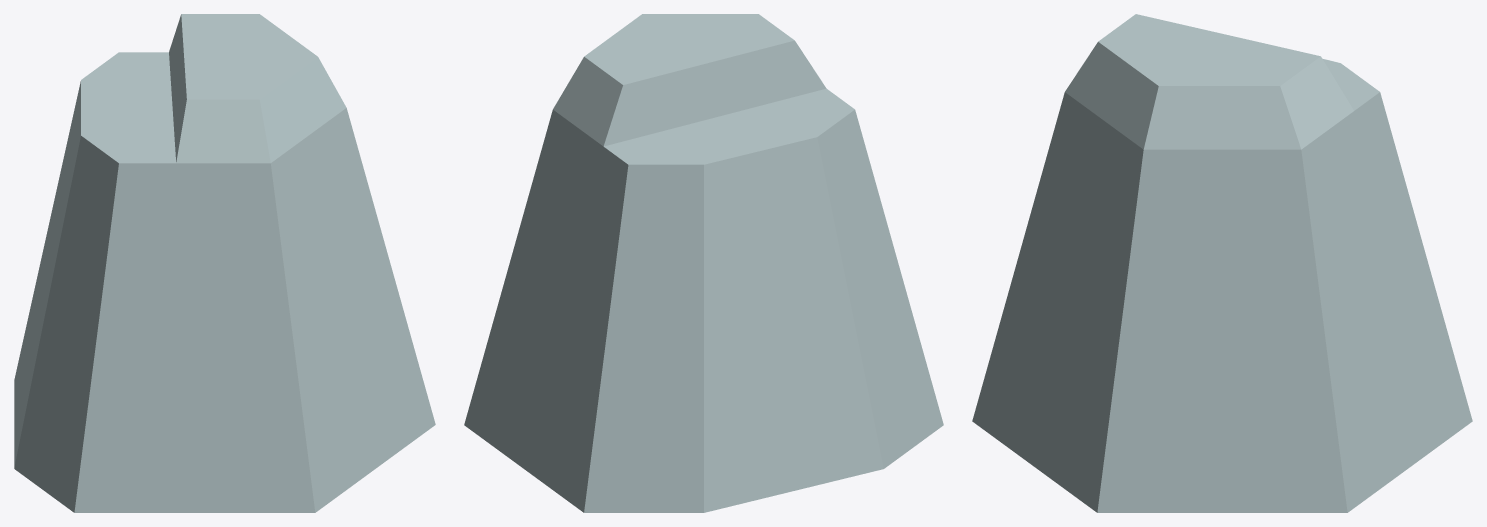
The model's file is stone_tallE.glb.
The picture shows the model from 3 angles, left to right: view 1: azimuth 30°, elevation 25°; view 2: azimuth 150°, elevation 25°; view 3: azimuth 270°, elevation 25°; orthographic projection. The views are drawn at different scales.
Parts seen in each view (by area): view 1: stone_tallE; view 2: stone_tallE; view 3: stone_tallE.
Part boxes in pixels (x1,y1,x2,y2): stone_tallE: (14,14,435,512); stone_tallE: (464,14,943,512); stone_tallE: (972,14,1472,512).
Size of the model in its own units: 0.4562 by 0.4438 by 0.5268.
